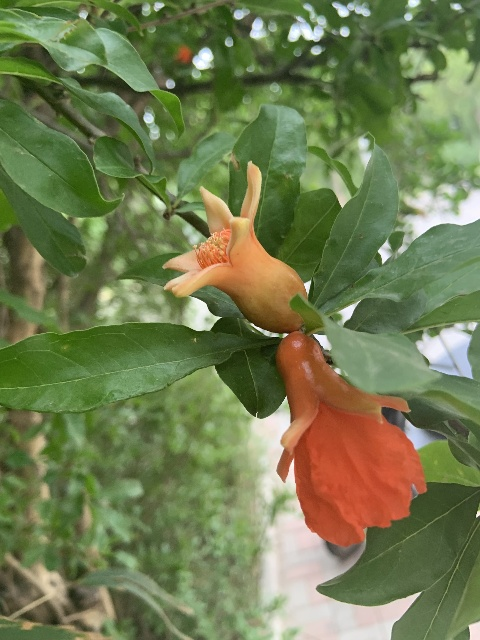early-fruit: (162, 160, 307, 330)
flower: (275, 332, 425, 550)
